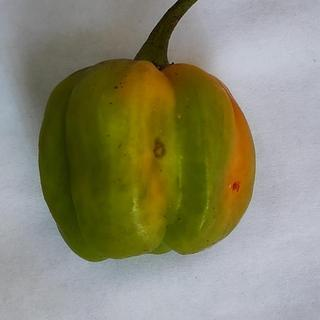Defect: (146, 134, 170, 162), (226, 176, 245, 198)
Fly-bites: (107, 80, 126, 96)
